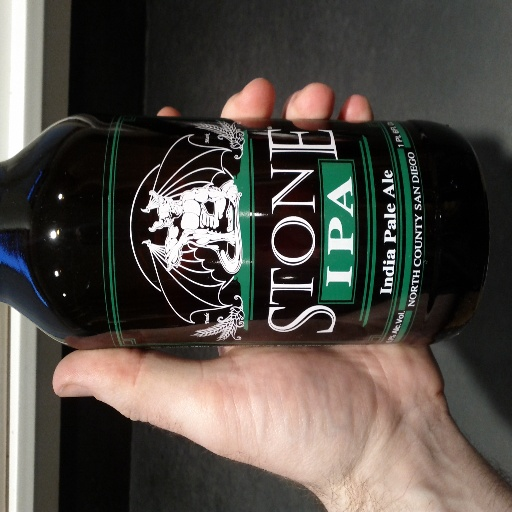hand: (49, 78, 511, 511)
